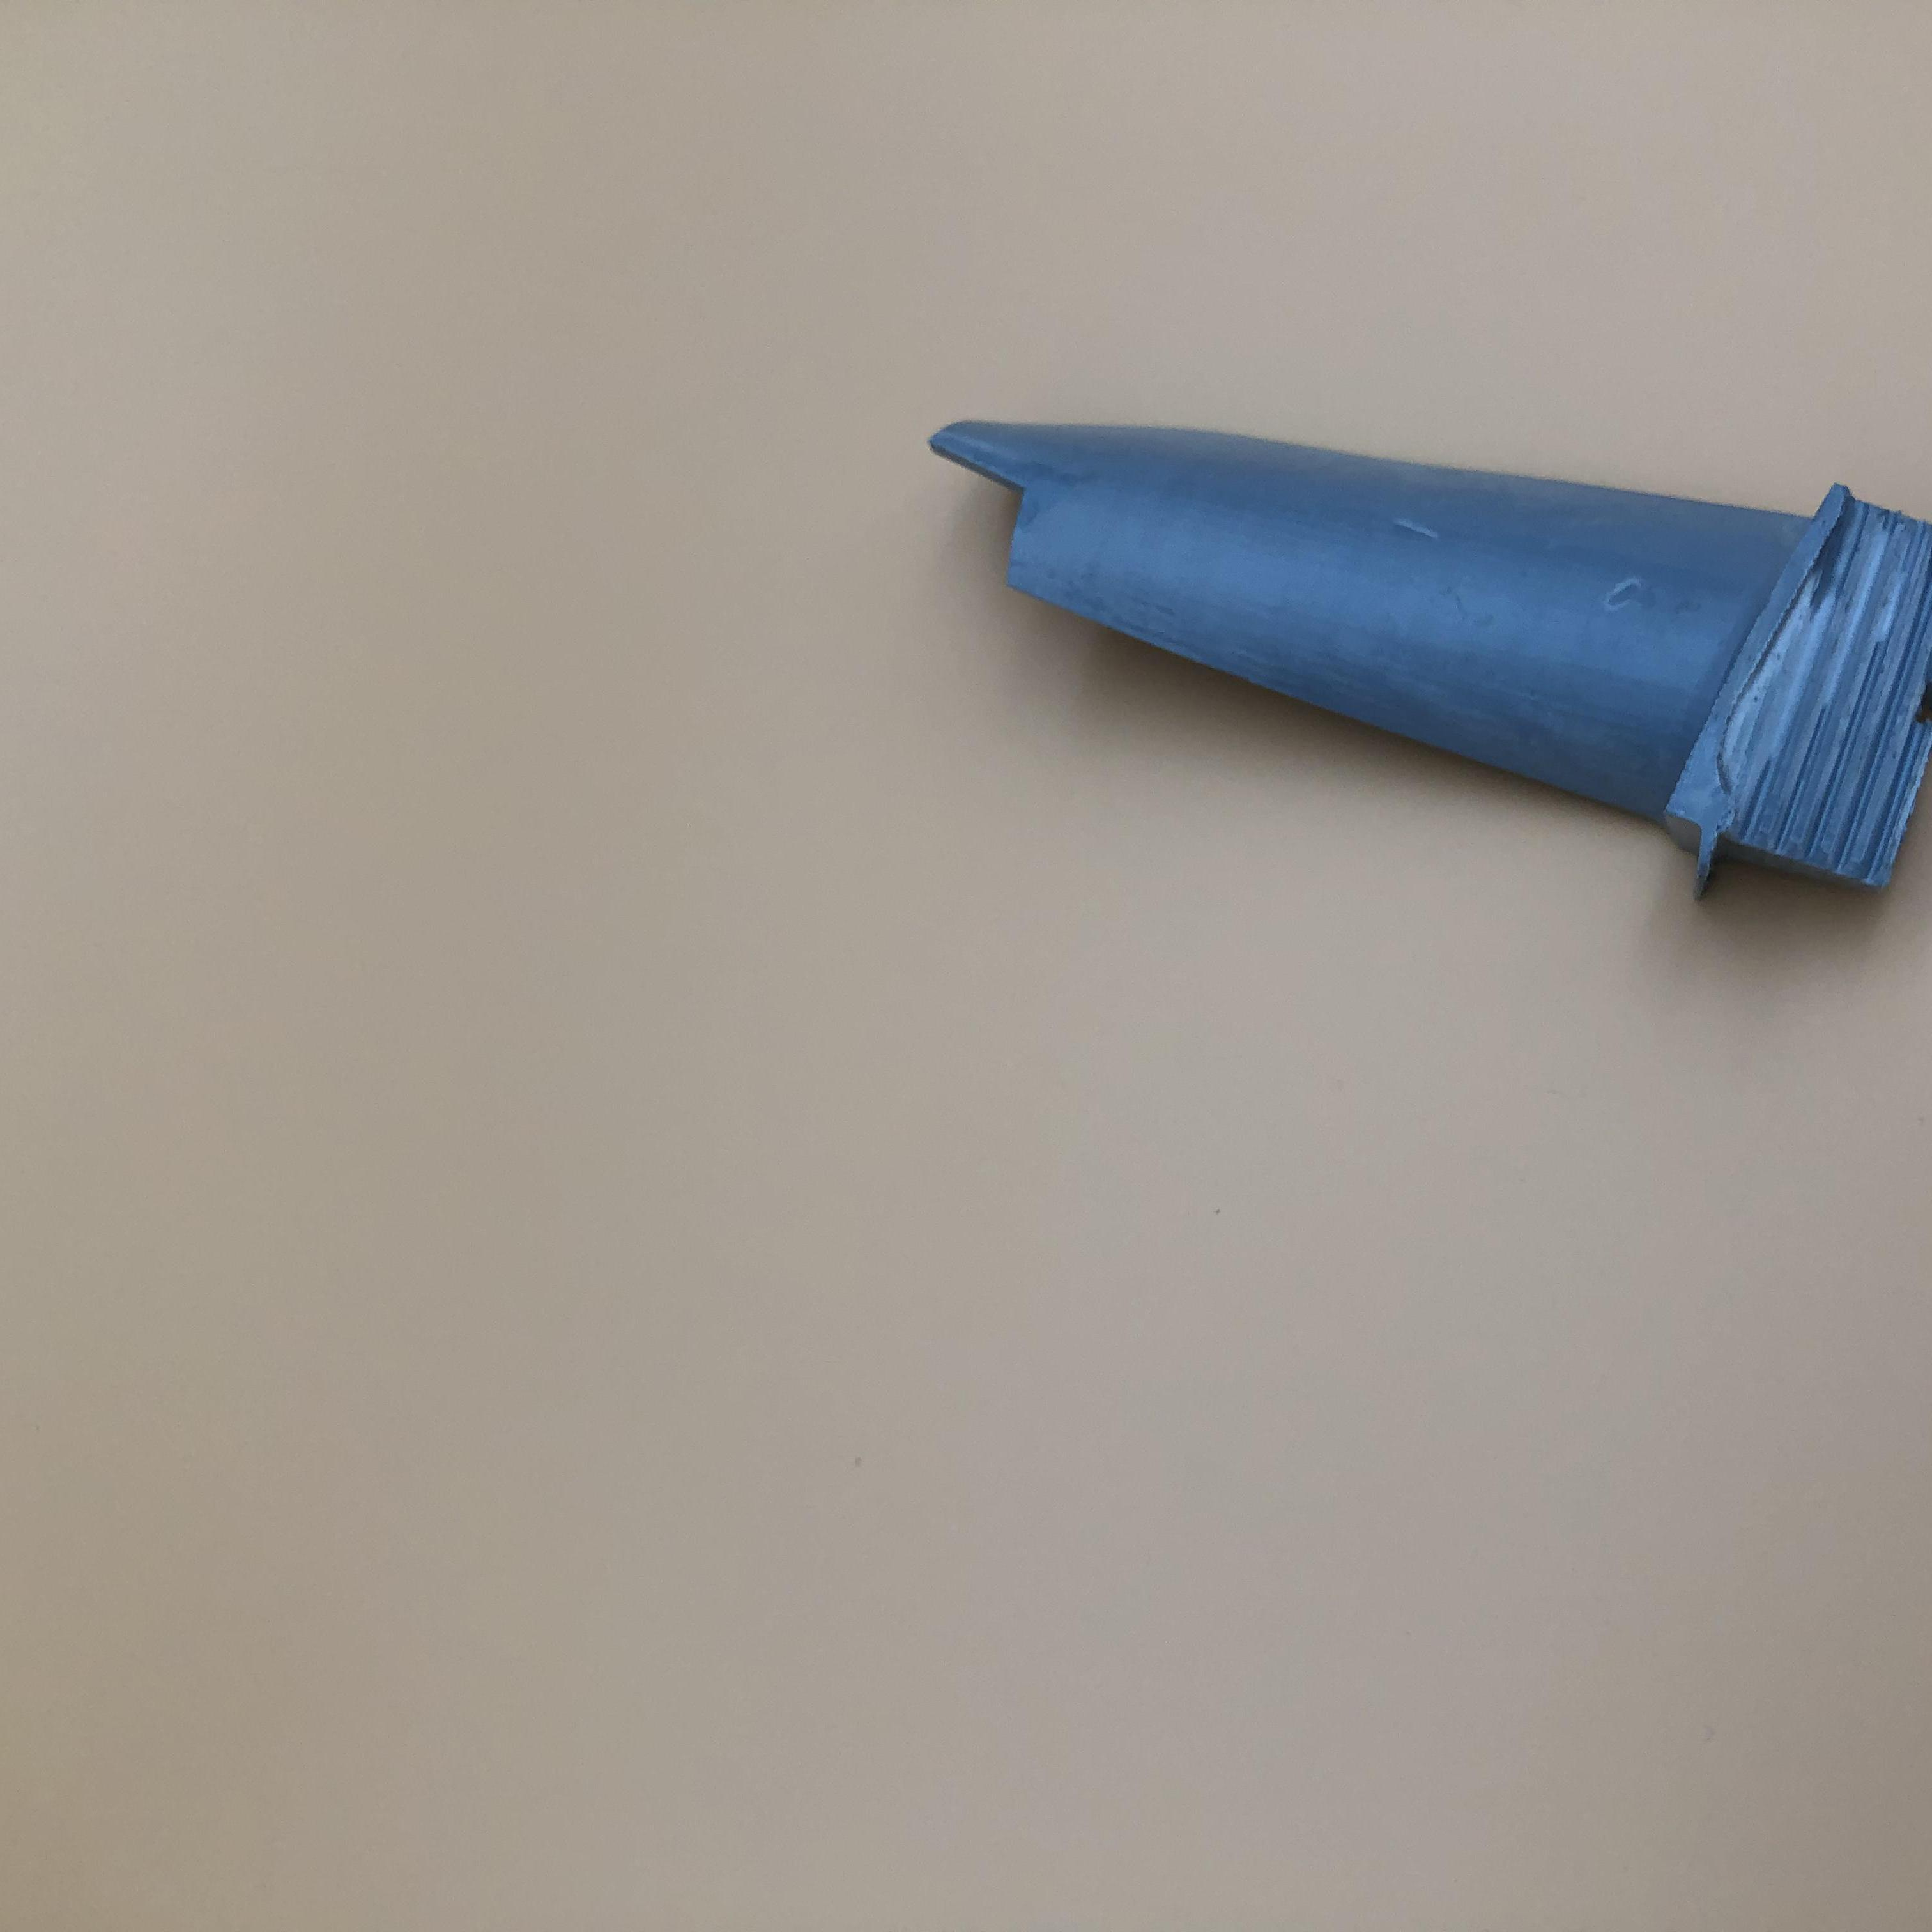fracture: (927, 435, 1044, 591)
